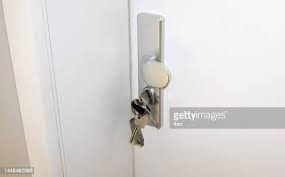key: (128, 95, 164, 146)
